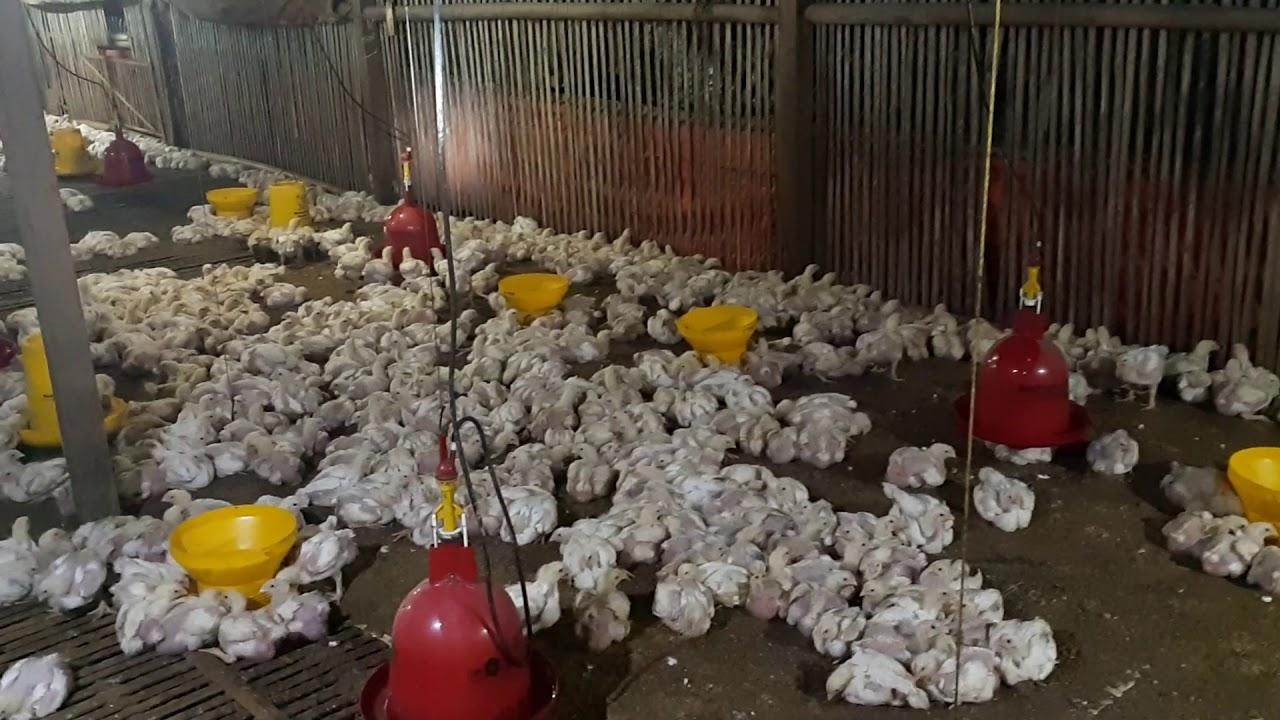chicken: (825, 651, 929, 712), (880, 482, 955, 555), (282, 526, 357, 596), (118, 582, 188, 653), (912, 648, 999, 705), (0, 653, 70, 720), (575, 568, 633, 648), (156, 586, 224, 654), (260, 578, 329, 644), (220, 589, 278, 662), (655, 564, 713, 636), (1203, 522, 1280, 576), (973, 467, 1036, 532), (549, 526, 616, 586), (992, 620, 1056, 679), (518, 560, 571, 628), (1114, 343, 1167, 410), (1166, 512, 1248, 554), (865, 620, 948, 661), (884, 443, 958, 487), (857, 312, 904, 381), (877, 584, 959, 620), (814, 606, 868, 656), (615, 502, 670, 550), (567, 444, 610, 501), (860, 580, 923, 614), (1089, 430, 1139, 472), (921, 558, 981, 578)
